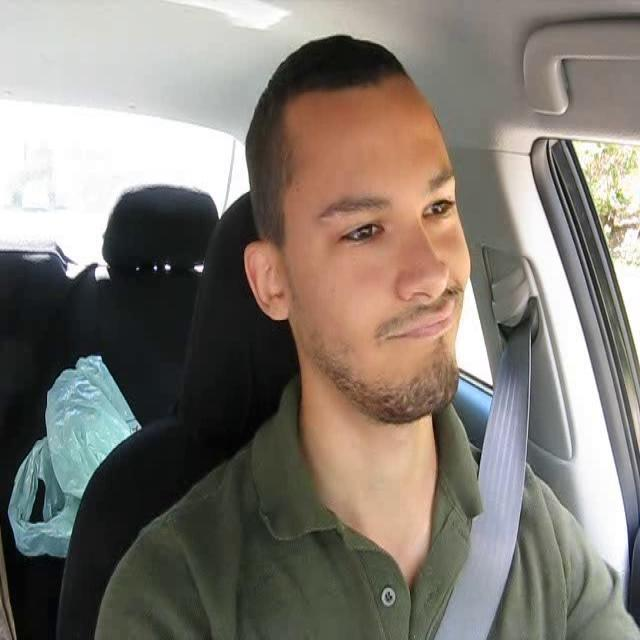close: (377, 295, 462, 345)
